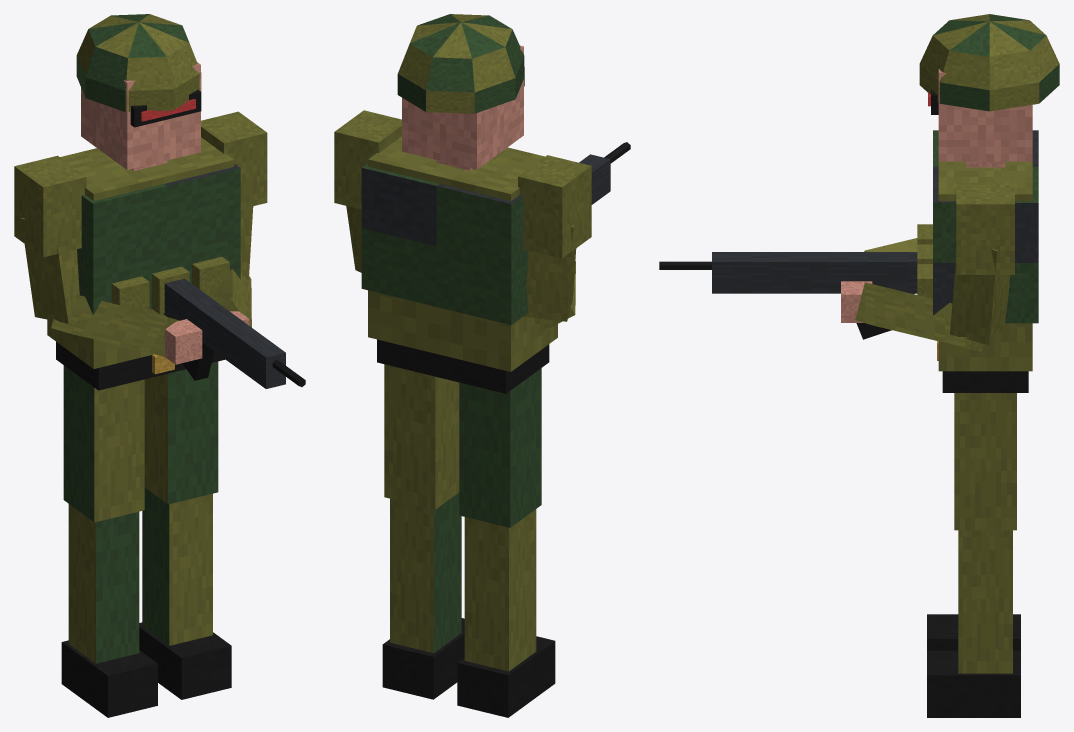
The model's file is enemy_grunt.glb.
3 renders of one model, left to right at view 1: azimuth 30°, elevation 25°; view 2: azimuth 150°, elevation 25°; view 3: azimuth 270°, elevation 25°, orthographic.
Visible parts, largest first — view 1: enemy_grunt; view 2: enemy_grunt; view 3: enemy_grunt.
Boxes of the visible parts, bbox=[...] form: enemy_grunt: bbox=[14, 14, 305, 717]; enemy_grunt: bbox=[334, 14, 630, 717]; enemy_grunt: bbox=[659, 14, 1059, 717].
Size of the model in its own units: 0.6828 by 1.88 by 1.02.
Materials: 2 (2 with a texture image).
